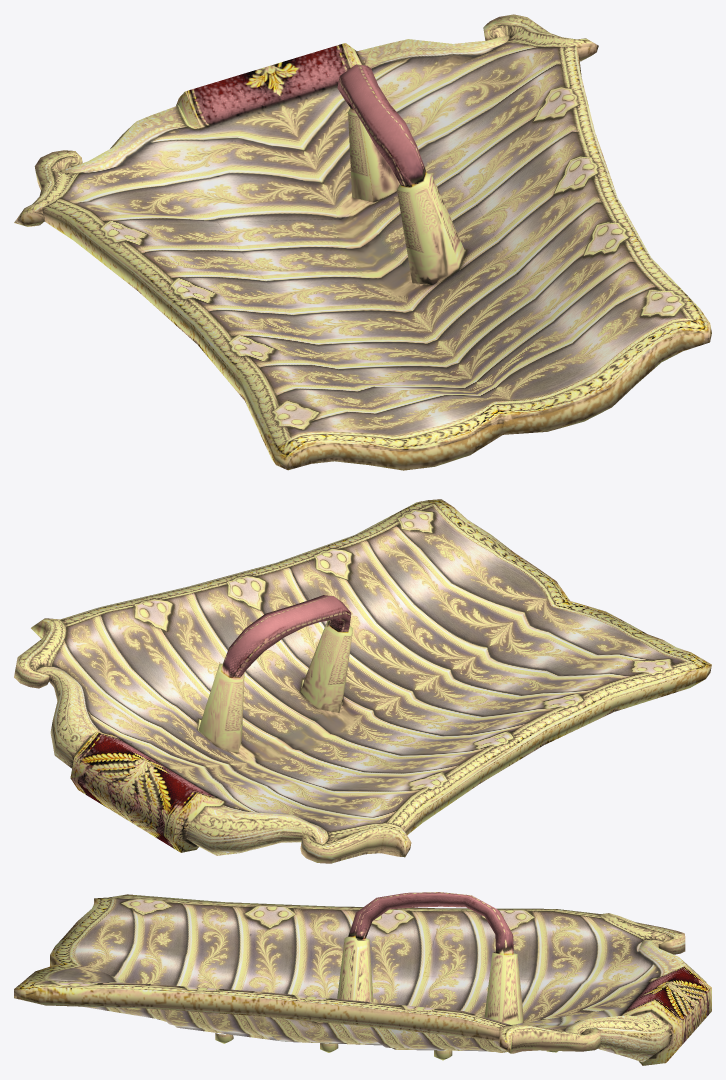
File: s_steelshield_t3.glb
3 views of the same model, one above another, from view 1: azimuth 30°, elevation 25°; view 2: azimuth 150°, elevation 25°; view 3: azimuth 270°, elevation 25° (orthographic). The views are drawn at different scales.
Visible parts, largest first — view 1: Shield:2; view 2: Shield:2; view 3: Shield:2.
Boxes of the visible parts, x1,y1,x2,y2 form: Shield:2: (14, 14, 711, 470); Shield:2: (14, 499, 711, 863); Shield:2: (14, 892, 711, 1065).
Bounding box in the file's own units: 36.49 × 12.96 × 47.06.
Materials: 1 (1 with a texture image).
